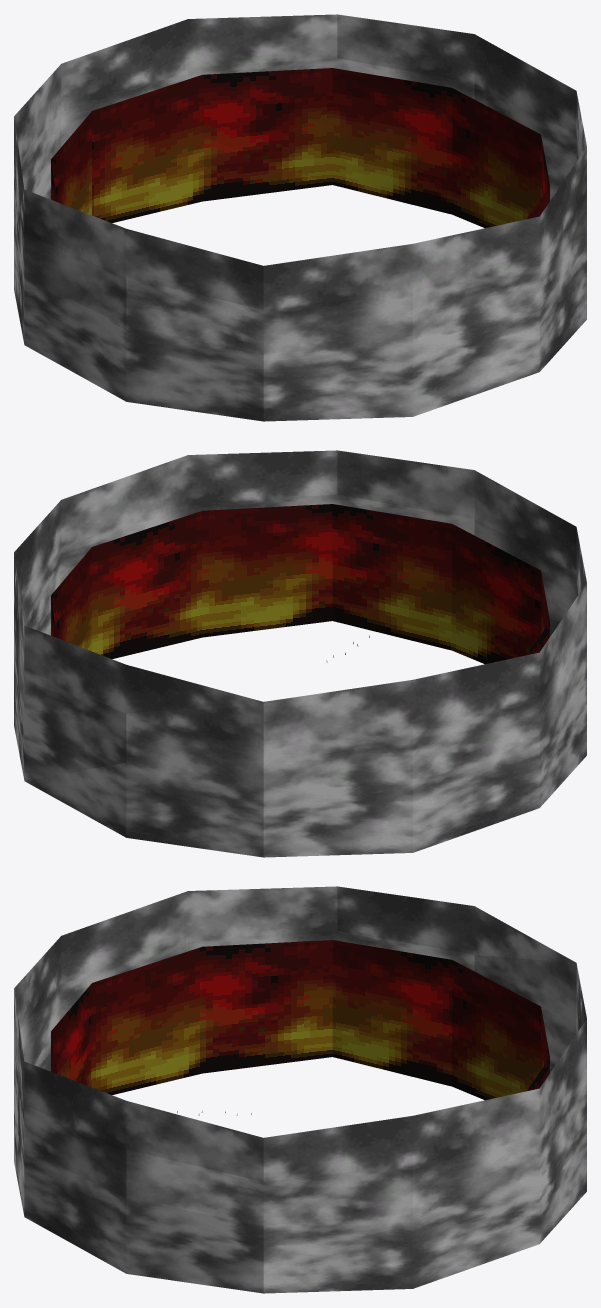
File: STG0100_G_01.fbx
The picture shows the model from 3 angles, top to bottom: view 1: azimuth 30°, elevation 25°; view 2: azimuth 150°, elevation 25°; view 3: azimuth 270°, elevation 25°; orthographic projection.
Visible parts, largest first — view 1: STG0100_G_01_s0100_nn040; view 2: STG0100_G_01_s0100_nn040; view 3: STG0100_G_01_s0100_nn040.
Boxes of the visible parts, x1,y1,x2,y2 form: STG0100_G_01_s0100_nn040: (14,14,586,421); STG0100_G_01_s0100_nn040: (14,450,586,857); STG0100_G_01_s0100_nn040: (14,886,586,1293).
Size of the model in its own units: 9598 by 3082 by 9244.
